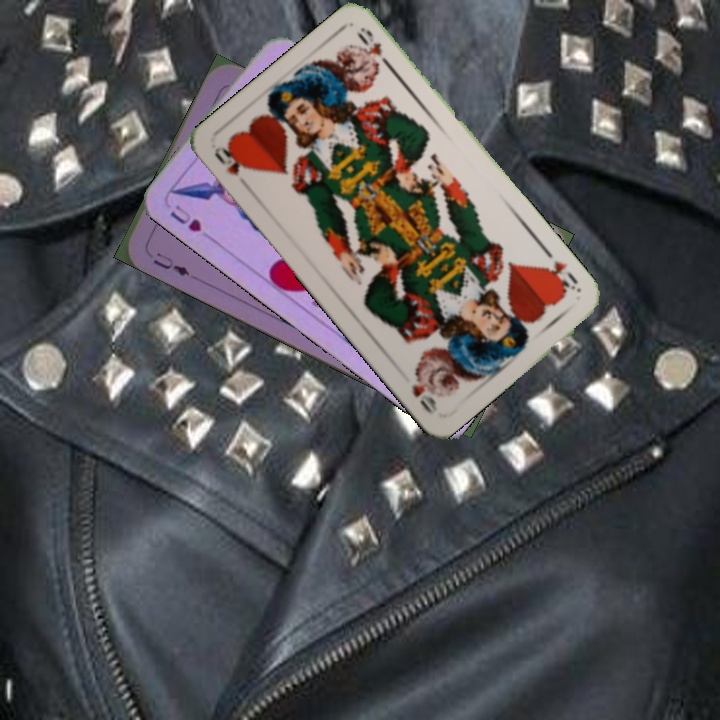EU: (149, 248, 193, 279)
HO: (210, 139, 253, 191), (539, 256, 584, 296)
HU: (165, 201, 205, 235)
